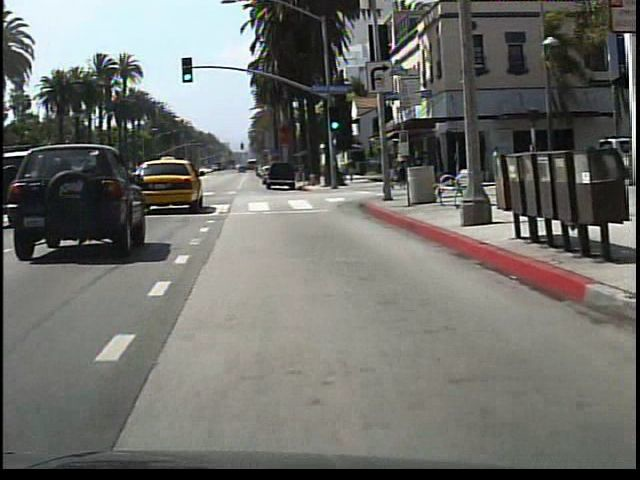person: (489, 142, 508, 188), (388, 149, 404, 195)
